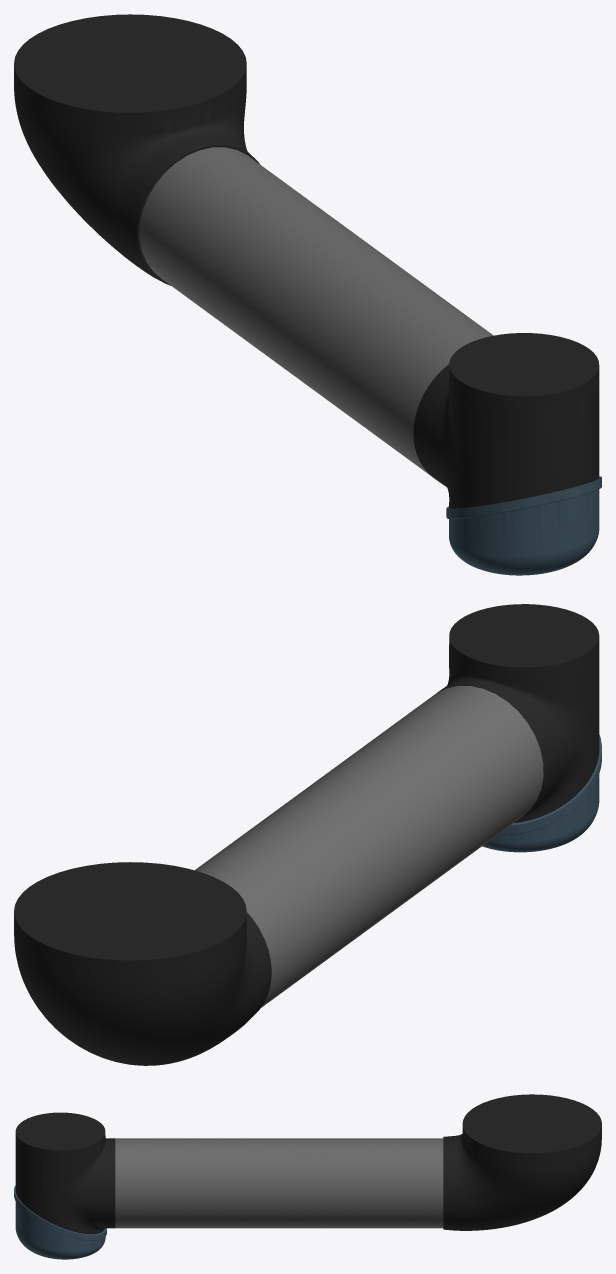
Rendered from forearm.obj.
The picture shows the model from 3 angles, top to bottom: view 1: azimuth 30°, elevation 25°; view 2: azimuth 150°, elevation 25°; view 3: azimuth 270°, elevation 25°; orthographic projection. The views are drawn at different scales.
Bounding box in the file's own units: 0.116 × 0.1117 × 0.4892.
Materials: 1 (1 with a texture image).
